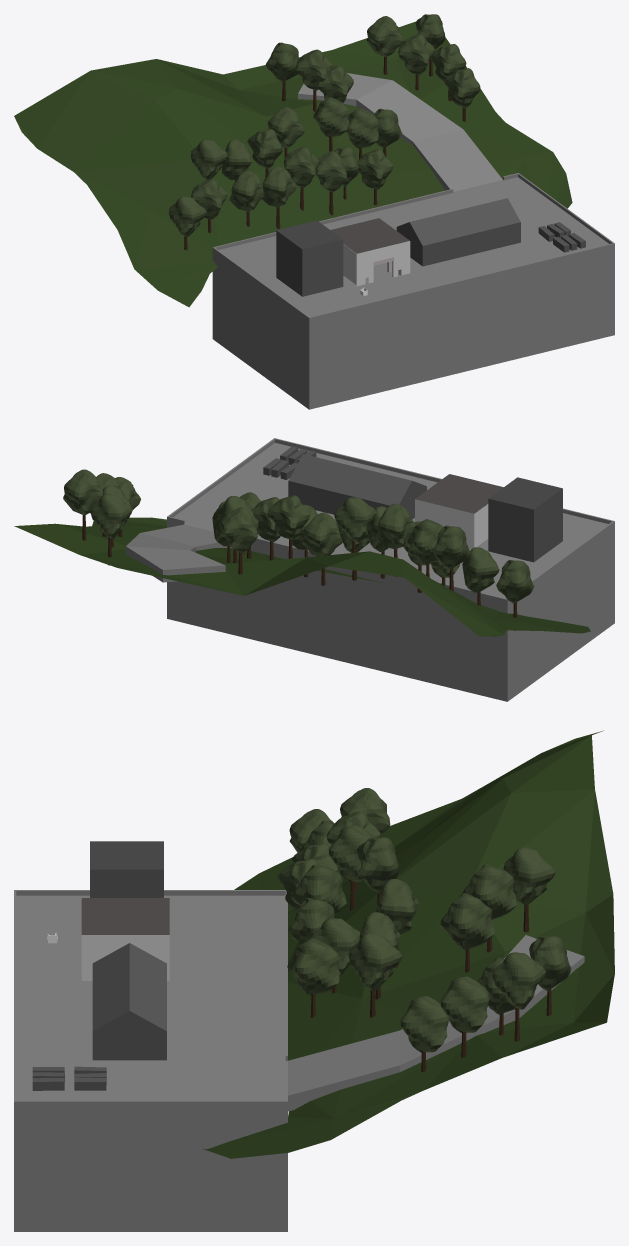
The model's file is whdm.gltf.
3 views of the same model, one above another, from view 1: azimuth 30°, elevation 25°; view 2: azimuth 150°, elevation 25°; view 3: azimuth 270°, elevation 25° (orthographic). The views are drawn at different scales.
Parts seen in each view (by area): view 1: Cube, Plane.001, Cube.003, Warehouse Base, Sphere.006, Sphere.019, Sphere.010, Sphere.014, Sphere.011, Sphere.018, Sphere.002, Sphere.001 (+15 smaller); view 2: Cube, Plane.001, Cube.003, Warehouse Base, Sphere.021, Sphere.009, Sphere.006, Sphere.005, Sphere.019, Sphere, Sphere.012, Sphere.017 (+10 smaller); view 3: Cube, Plane.001, Cube.003, Warehouse Base, Sphere.002, Sphere.004, Sphere.020, Sphere.021, Sphere.003, Sphere.022, Sphere.005, Sphere.007 (+13 smaller).
Boxes of the visible parts, bbox=[...] form: Cube: bbox=[212, 73, 614, 409]; Plane.001: bbox=[14, 21, 572, 307]; Cube.003: bbox=[276, 198, 585, 296]; Warehouse Base: bbox=[330, 218, 410, 286]; Sphere.006: bbox=[313, 97, 349, 151]; Sphere.019: bbox=[366, 16, 403, 74]; Sphere.010: bbox=[262, 166, 296, 228]; Sphere.014: bbox=[229, 170, 264, 226]; Sphere.011: bbox=[284, 146, 318, 210]; Sphere.018: bbox=[398, 34, 434, 90]; Sphere.002: bbox=[357, 149, 392, 205]; Sphere.001: bbox=[315, 151, 347, 215]; Cube: bbox=[126, 438, 614, 701]; Plane.001: bbox=[14, 517, 590, 636]; Cube.003: bbox=[263, 446, 562, 562]; Warehouse Base: bbox=[415, 474, 503, 549]; Sphere.021: bbox=[63, 469, 102, 540]; Sphere.009: bbox=[302, 512, 342, 585]; Sphere.006: bbox=[267, 495, 309, 558]; Sphere.005: bbox=[220, 507, 258, 574]; Sphere.019: bbox=[90, 493, 132, 565]; Sphere: bbox=[374, 503, 415, 576]; Sphere.012: bbox=[334, 497, 376, 552]; Sphere.017: bbox=[432, 525, 470, 591]; Cube: bbox=[14, 890, 584, 1231]; Plane.001: bbox=[203, 730, 614, 1158]; Cube.003: bbox=[32, 841, 166, 1090]; Warehouse Base: bbox=[81, 898, 169, 980]; Sphere.002: bbox=[287, 938, 340, 1017]; Sphere.004: bbox=[440, 893, 494, 972]; Sphere.020: bbox=[440, 976, 489, 1057]; Sphere.021: bbox=[492, 952, 545, 1041]; Sphere.003: bbox=[348, 933, 402, 1017]; Sphere.022: bbox=[400, 996, 448, 1072]; Sphere.005: bbox=[503, 847, 555, 932]; Sphere.007: bbox=[462, 864, 516, 952].
Size of the model in its own units: 45.53 by 19.22 by 37.51.
